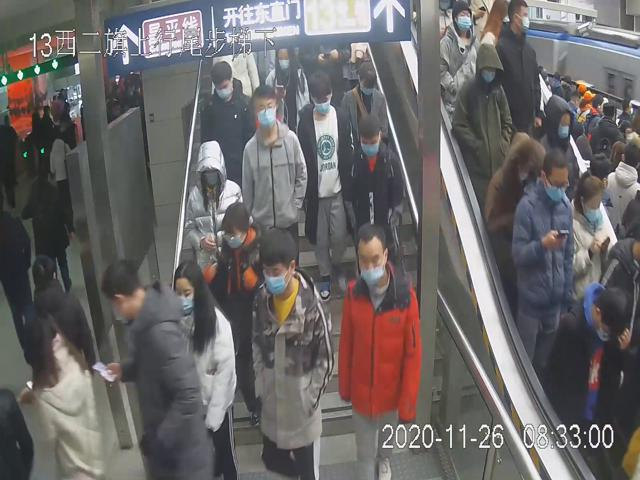person: (336, 221, 423, 480), (249, 225, 334, 480), (206, 202, 278, 430), (168, 258, 240, 480), (510, 150, 574, 366), (295, 73, 348, 307), (241, 88, 311, 265), (347, 115, 406, 279), (182, 134, 242, 273), (200, 60, 256, 180), (340, 62, 390, 168), (258, 43, 311, 136)
